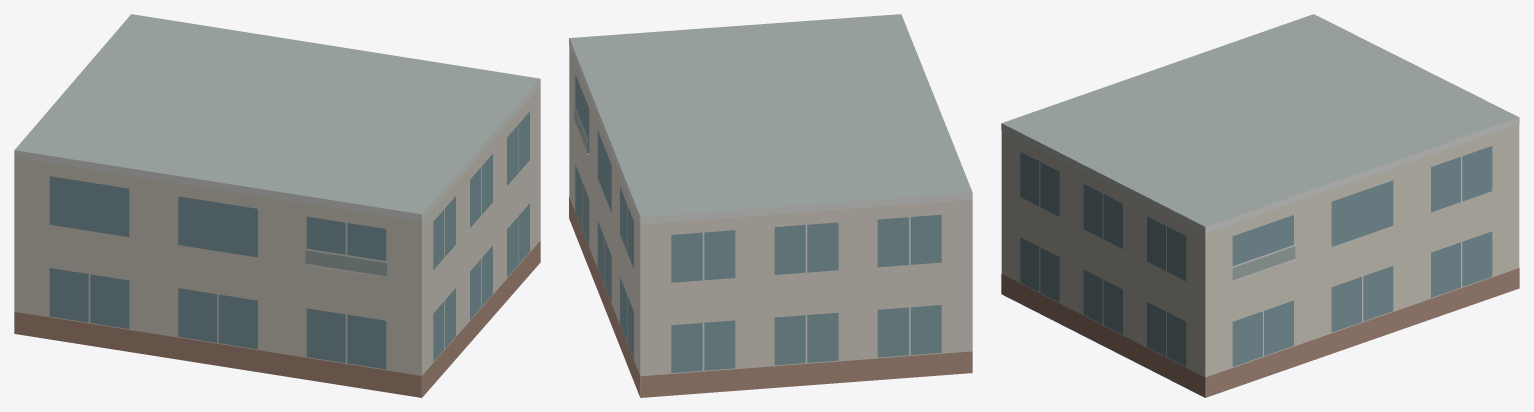
Rendered from survey-upis-32832949.glb.
The picture shows the model from 3 angles, left to right: view 1: azimuth 30°, elevation 25°; view 2: azimuth 150°, elevation 25°; view 3: azimuth 270°, elevation 25°; orthographic projection. The views are drawn at different scales.
Parts seen in each view (by area): view 1: survey-upis-32832949.tmp; view 2: survey-upis-32832949.tmp; view 3: survey-upis-32832949.tmp.
Boxes of the visible parts, left/top/right/bottom form: survey-upis-32832949.tmp: left=14, top=14, right=540, bottom=397; survey-upis-32832949.tmp: left=569, top=14, right=972, bottom=397; survey-upis-32832949.tmp: left=1001, top=14, right=1519, bottom=397.
Bounding box in the file's own units: 16.29 × 6.1 × 16.75.
